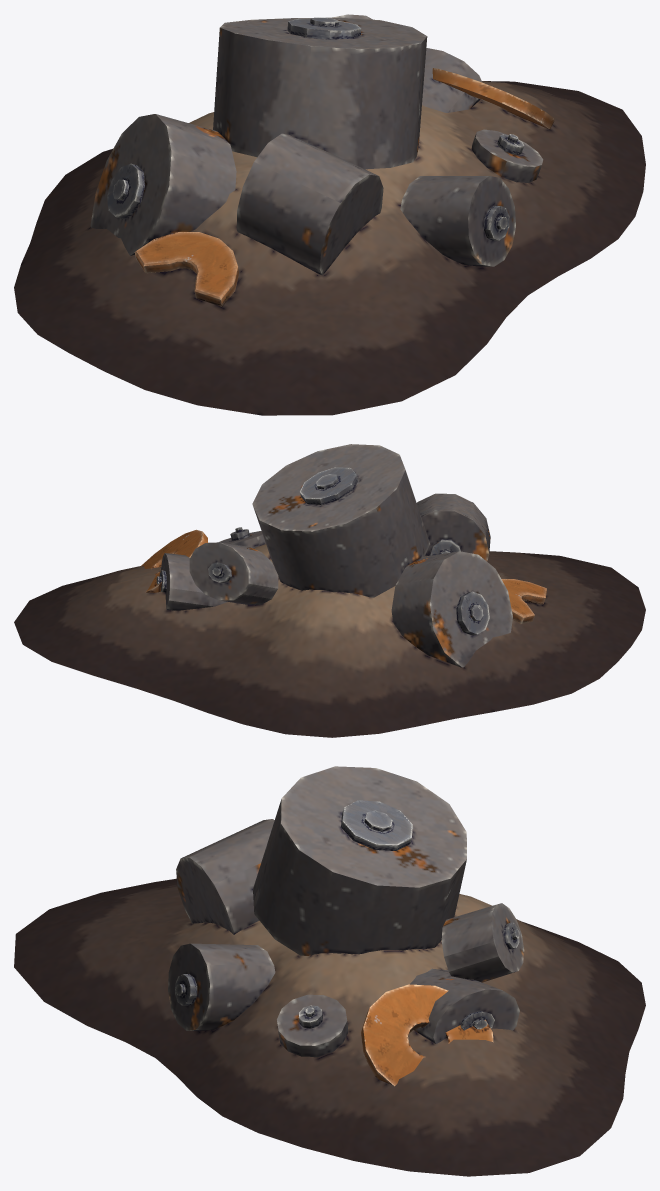
3 renders of one model, top to bottom at view 1: azimuth 30°, elevation 25°; view 2: azimuth 150°, elevation 25°; view 3: azimuth 270°, elevation 25°, orthographic. The views are drawn at different scales.
Visible parts, largest first — view 1: Mound, Drums, Discs, Hubs; view 2: Mound, Drums, Hubs, Discs; view 3: Mound, Drums, Discs, Hubs.
Part boxes in pixels (<box>): Mound: <box>14,81,645,415</box>; Drums: <box>90,14,543,275</box>; Discs: <box>134,68,554,306</box>; Hubs: <box>107,17,524,240</box>; Mound: <box>14,544,645,737</box>; Drums: <box>161,444,512,667</box>; Hubs: <box>156,467,489,635</box>; Discs: <box>140,529,546,624</box>; Mound: <box>14,878,645,1176</box>; Drums: <box>168,766,524,1057</box>; Discs: <box>361,984,493,1086</box>; Hubs: <box>175,800,519,1030</box>.
Size of the model in its own units: 17.75 by 5.89 by 15.33.
4 materials, 4 textured.
